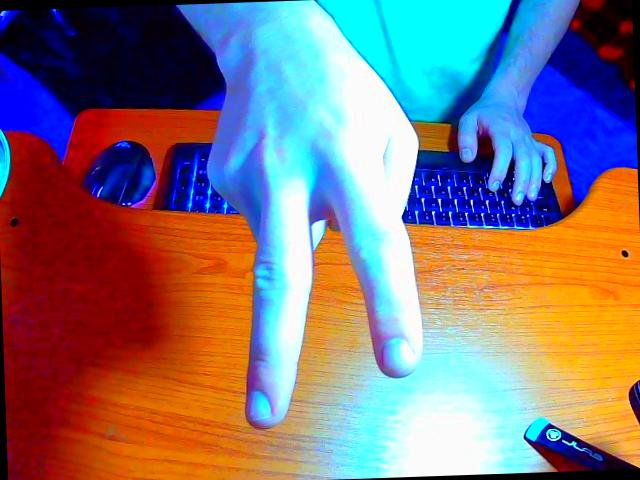scissors: (181, 0, 579, 428)
